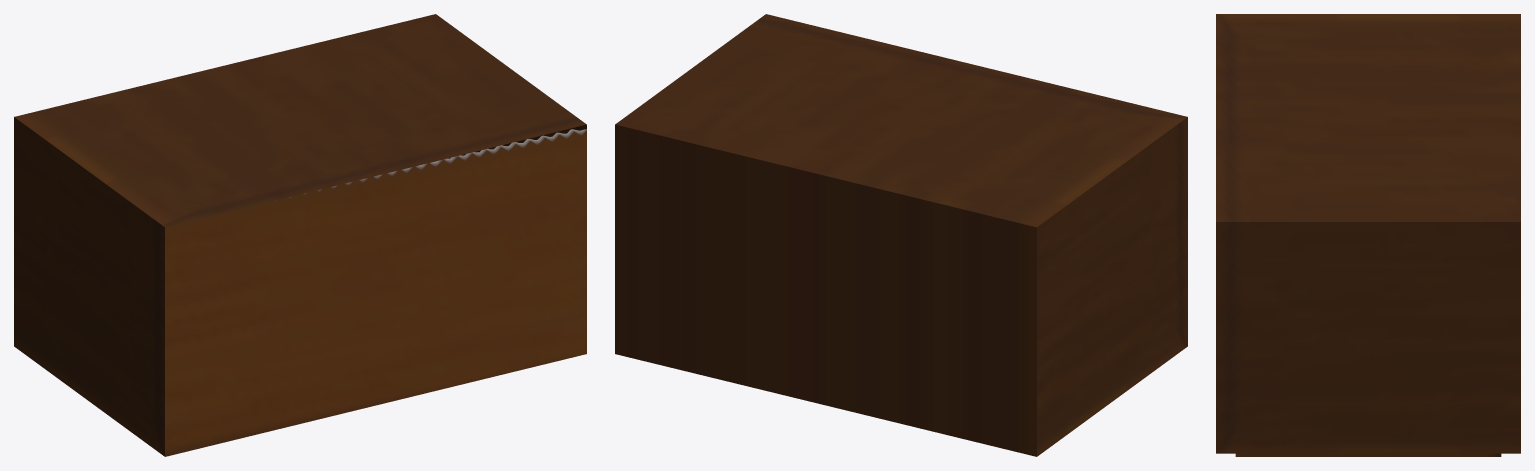
The model's file is pz_counter_dark_oak_wall.obj.
The picture shows the model from 3 angles, left to right: view 1: azimuth 30°, elevation 25°; view 2: azimuth 150°, elevation 25°; view 3: azimuth 270°, elevation 25°; orthographic projection.
Size of the model in its own units: 1 by 0.536 by 0.62.
Materials: 1 (1 with a texture image).
